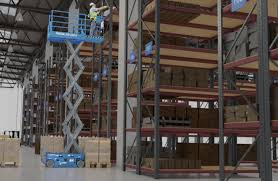Scissor Lift: (40, 9, 106, 170)
